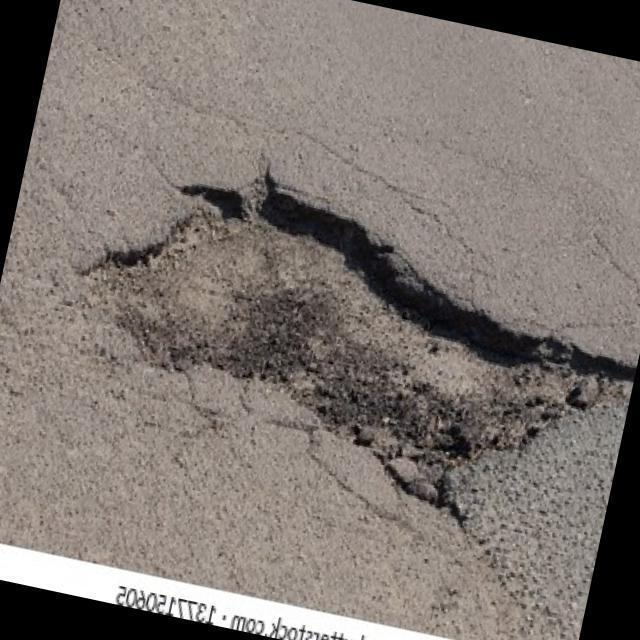pothole: (41, 137, 640, 528)
